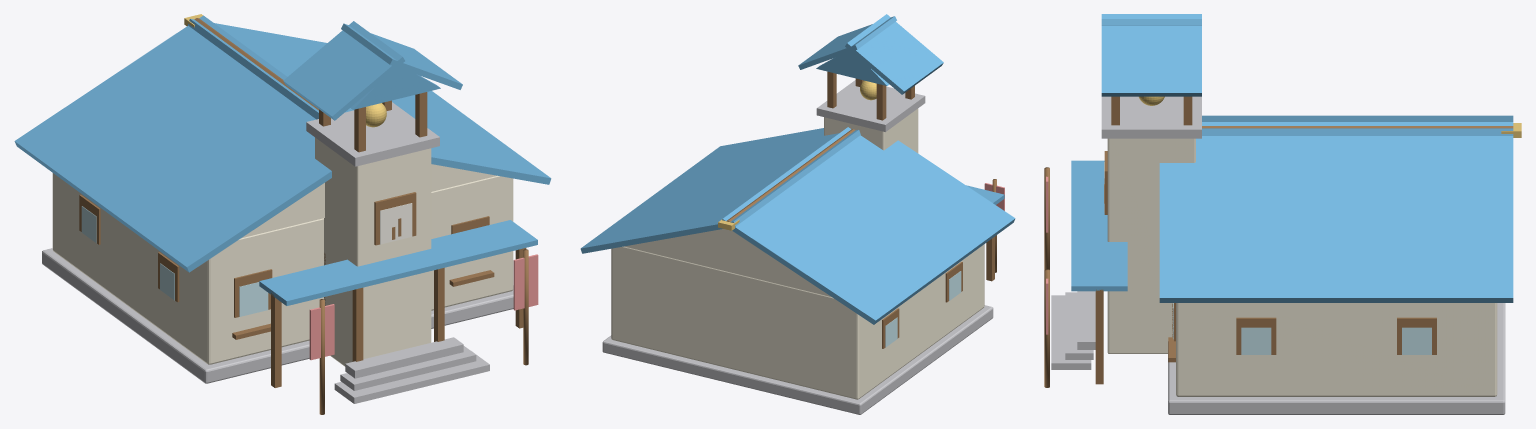
The model's file is ASTX_BUILDING_TOWNHALL.glb.
3 renders of one model, left to right at view 1: azimuth 30°, elevation 25°; view 2: azimuth 150°, elevation 25°; view 3: azimuth 270°, elevation 25°, orthographic. The views are drawn at different scales.
Parts seen in each view (by area): view 1: ASTX_BUILDING_TOWNHALL_roofL, ASTX_BUILDING_TOWNHALL_walls, ASTX_BUILDING_TOWNHALL_tower, ASTX_BUILDING_TOWNHALL_roofR, ASTX_BUILDING_TOWNHALL_porchRoof, ASTX_BUILDING_TOWNHALL_base, ASTX_BUILDING_TOWNHALL_cupolaL, ASTX_BUILDING_TOWNHALL_towerBand, ASTX_BUILDING_TOWNHALL_gableS, ASTX_BUILDING_TOWNHALL_stair0, ASTX_BUILDING_TOWNHALL_stair2, ASTX_BUILDING_TOWNHALL_cupolaR (+16 smaller); view 2: ASTX_BUILDING_TOWNHALL_walls, ASTX_BUILDING_TOWNHALL_roofL, ASTX_BUILDING_TOWNHALL_roofR, ASTX_BUILDING_TOWNHALL_base, ASTX_BUILDING_TOWNHALL_gableN, ASTX_BUILDING_TOWNHALL_cupolaL, ASTX_BUILDING_TOWNHALL_towerBand, ASTX_BUILDING_TOWNHALL_tower, ASTX_BUILDING_TOWNHALL_cupolaR, ASTX_BUILDING_TOWNHALL_cupolaF, ASTX_BUILDING_TOWNHALL_ridge; view 3: ASTX_BUILDING_TOWNHALL_roofR, ASTX_BUILDING_TOWNHALL_walls, ASTX_BUILDING_TOWNHALL_tower, ASTX_BUILDING_TOWNHALL_cupolaR, ASTX_BUILDING_TOWNHALL_base, ASTX_BUILDING_TOWNHALL_porchRoof, ASTX_BUILDING_TOWNHALL_roofL, ASTX_BUILDING_TOWNHALL_towerBand, ASTX_BUILDING_TOWNHALL_stair0, ASTX_BUILDING_TOWNHALL_stair2, ASTX_BUILDING_TOWNHALL_stair1, ASTX_BUILDING_TOWNHALL_ridge (+8 smaller).
Boxes of the visible parts, x1,y1,x2,y2 form: ASTX_BUILDING_TOWNHALL_roofL: (14, 15, 331, 272); ASTX_BUILDING_TOWNHALL_walls: (52, 173, 513, 364); ASTX_BUILDING_TOWNHALL_tower: (315, 137, 431, 366); ASTX_BUILDING_TOWNHALL_roofR: (188, 18, 551, 184); ASTX_BUILDING_TOWNHALL_porchRoof: (259, 220, 537, 305); ASTX_BUILDING_TOWNHALL_base: (42, 248, 513, 383); ASTX_BUILDING_TOWNHALL_cupolaL: (283, 21, 404, 120); ASTX_BUILDING_TOWNHALL_towerBand: (306, 102, 439, 166); ASTX_BUILDING_TOWNHALL_gableS: (241, 164, 496, 238); ASTX_BUILDING_TOWNHALL_stair0: (334, 351, 489, 403); ASTX_BUILDING_TOWNHALL_stair2: (345, 337, 463, 378); ASTX_BUILDING_TOWNHALL_cupolaR: (341, 23, 462, 89); ASTX_BUILDING_TOWNHALL_walls: (611, 244, 984, 399); ASTX_BUILDING_TOWNHALL_roofL: (722, 127, 1015, 324); ASTX_BUILDING_TOWNHALL_roofR: (580, 128, 860, 253); ASTX_BUILDING_TOWNHALL_base: (602, 305, 993, 414); ASTX_BUILDING_TOWNHALL_gableN: (624, 229, 831, 296); ASTX_BUILDING_TOWNHALL_cupolaL: (845, 14, 943, 94); ASTX_BUILDING_TOWNHALL_towerBand: (816, 80, 925, 131); ASTX_BUILDING_TOWNHALL_tower: (824, 108, 918, 153); ASTX_BUILDING_TOWNHALL_cupolaR: (798, 16, 896, 69); ASTX_BUILDING_TOWNHALL_cupolaF: (816, 52, 889, 85); ASTX_BUILDING_TOWNHALL_ridge: (726, 129, 855, 221); ASTX_BUILDING_TOWNHALL_roofR: (1159, 122, 1513, 302); ASTX_BUILDING_TOWNHALL_walls: (1176, 303, 1497, 396); ASTX_BUILDING_TOWNHALL_tower: (1107, 138, 1195, 353); ASTX_BUILDING_TOWNHALL_cupolaR: (1101, 14, 1201, 96); ASTX_BUILDING_TOWNHALL_base: (1168, 303, 1505, 414); ASTX_BUILDING_TOWNHALL_porchRoof: (1071, 160, 1127, 291); ASTX_BUILDING_TOWNHALL_roofL: (1202, 115, 1513, 135); ASTX_BUILDING_TOWNHALL_towerBand: (1101, 96, 1201, 138); ASTX_BUILDING_TOWNHALL_stair0: (1051, 295, 1091, 369); ASTX_BUILDING_TOWNHALL_stair2: (1077, 291, 1095, 349); ASTX_BUILDING_TOWNHALL_stair1: (1065, 292, 1093, 359); ASTX_BUILDING_TOWNHALL_ridge: (1202, 126, 1513, 128).
Bounding box in the file's own units: 10.73 × 8.77 × 11.87.
